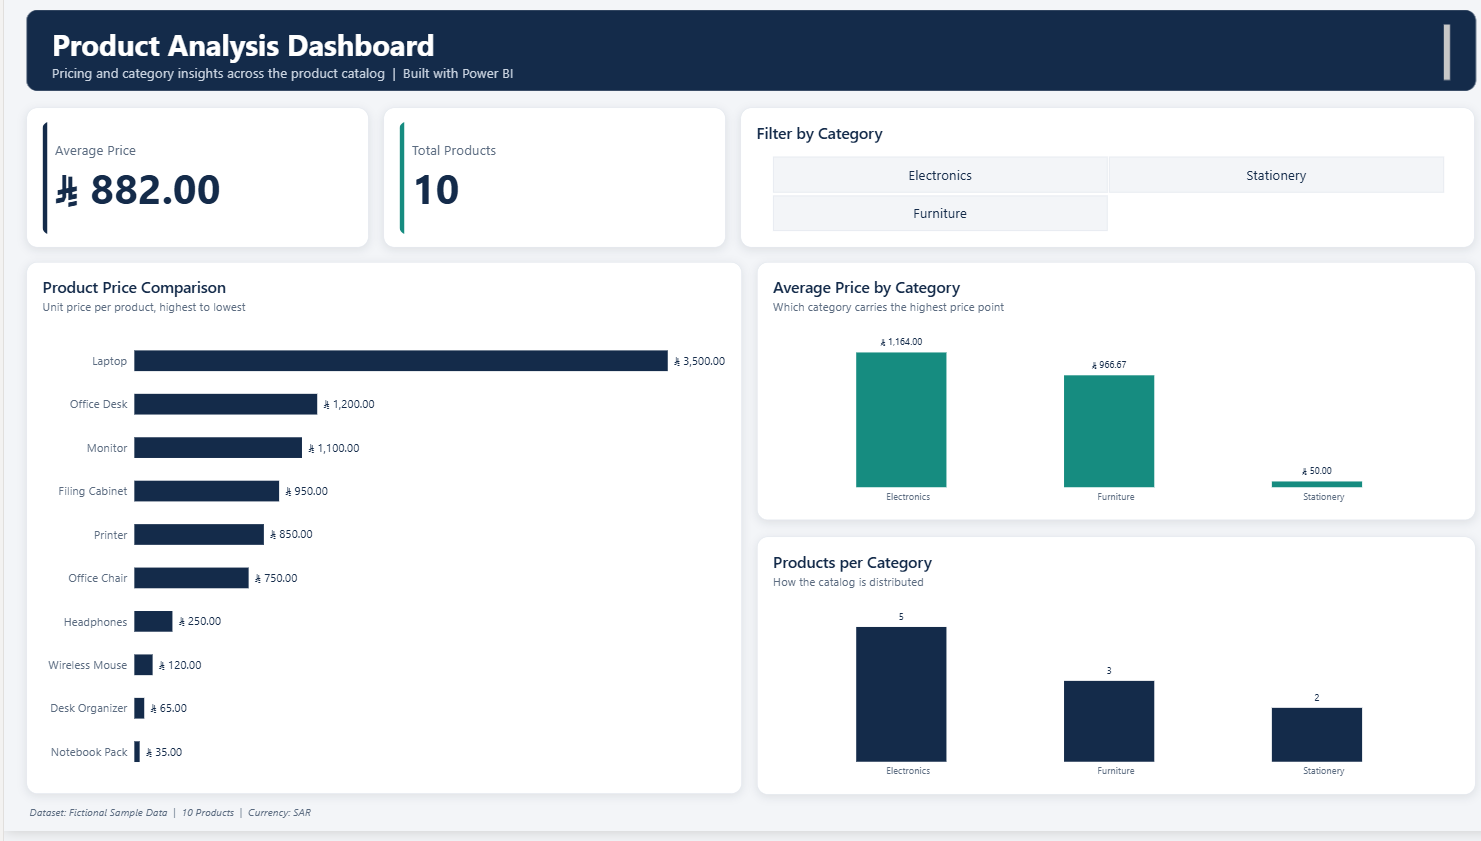

The page's visual inventory and layout, read from the dashboard file:
{"tool":"powerbi","page":{"name":"Product Analysis","canvas":[1920,1080],"ordinal":0},"visuals":[{"type":"textbox","box":[28,24,1864,104],"z":0},{"type":"cardVisual","fields":{"Data":["Avg(products 1.price)"]},"box":[28,148,440,180],"z":1000},{"type":"cardVisual","fields":{"Data":["CountNonNull(products 1.product_id)"]},"box":[488,148,440,180],"z":2000},{"type":"slicer","title":"Filter by Category","fields":{"Values":["products 1.category"]},"box":[948,148,944,180],"z":3000},{"type":"barChart","title":"Product Price Comparison","fields":{"Category":["products 1.product_name"],"Y":["Sum(products 1.price)"]},"box":[28,348,920,684],"z":4000},{"type":"clusteredColumnChart","title":"Average Price by Category","fields":{"Category":["products 1.category"],"Y":["Avg(products 1.price)"]},"box":[968,348,924,332],"z":5000},{"type":"clusteredColumnChart","title":"Products per Category","fields":{"Category":["products 1.category"],"Y":["CountNonNull(products 1.product_id)"]},"box":[968,700,924,332],"z":6000},{"type":"textbox","box":[28,1042,1864,26],"z":7000}]}

Visuals, with their boxes in screenshot pixels (x1, y1, x2, y2), scaled from the page's 1920x1080 canvas onto the 1481x841 screenshot:
textbox: crop(22, 19, 1459, 100)
cardVisual - Avg(products 1.price): crop(22, 115, 361, 255)
cardVisual - CountNonNull(products 1.product_id): crop(376, 115, 716, 255)
"Filter by Category" slicer: crop(731, 115, 1459, 255)
"Product Price Comparison" barChart: crop(22, 271, 731, 804)
"Average Price by Category" clusteredColumnChart: crop(747, 271, 1459, 530)
"Products per Category" clusteredColumnChart: crop(747, 545, 1459, 804)
textbox: crop(22, 811, 1459, 832)
